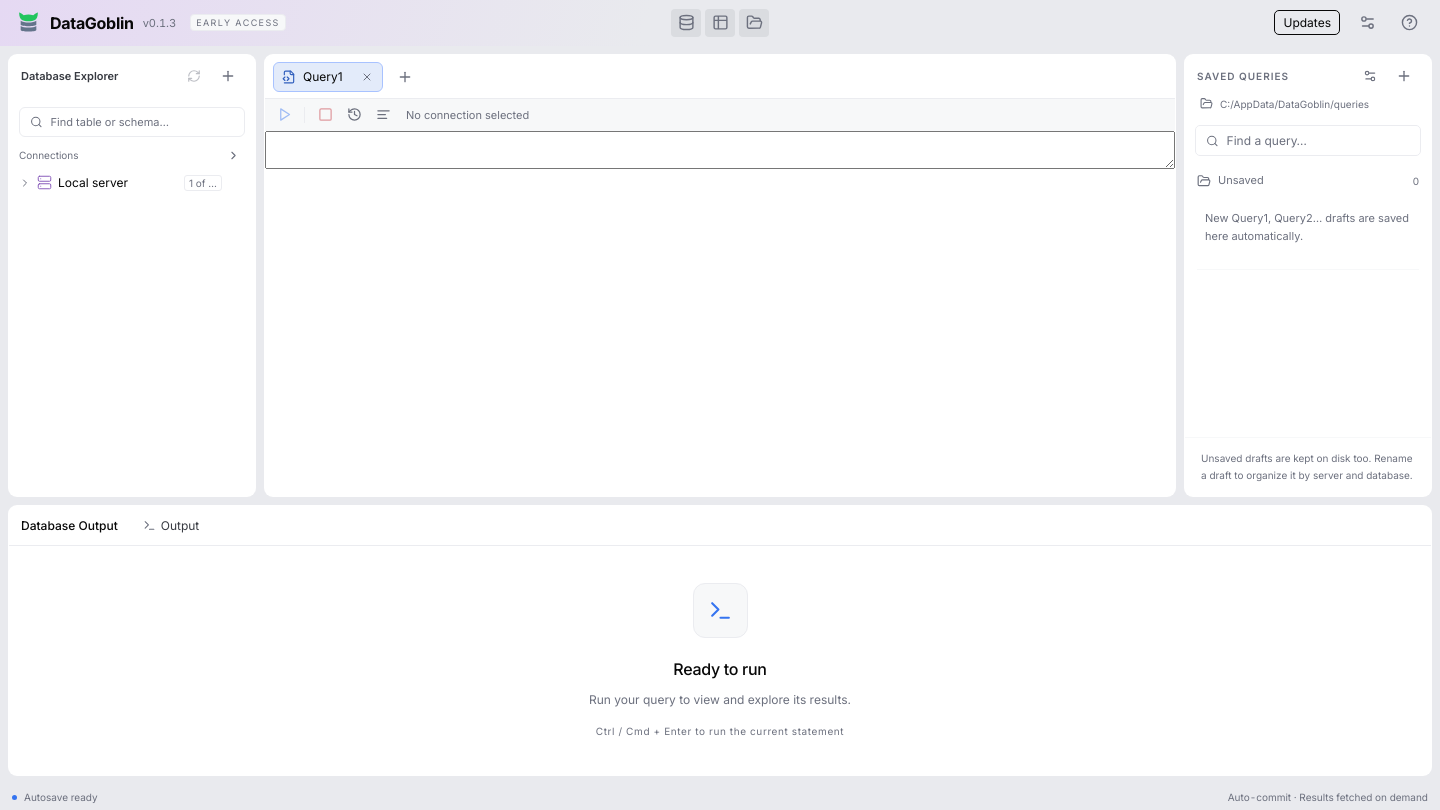
Test: requests cached execution and releases results when rerun or closed
Later steps or results of the test are not shown.
Check: the text "Autosave ready" is shown, box [24,791,98,803]
Click the button "Local server".
click(100, 182)  # box [15,170,184,195]
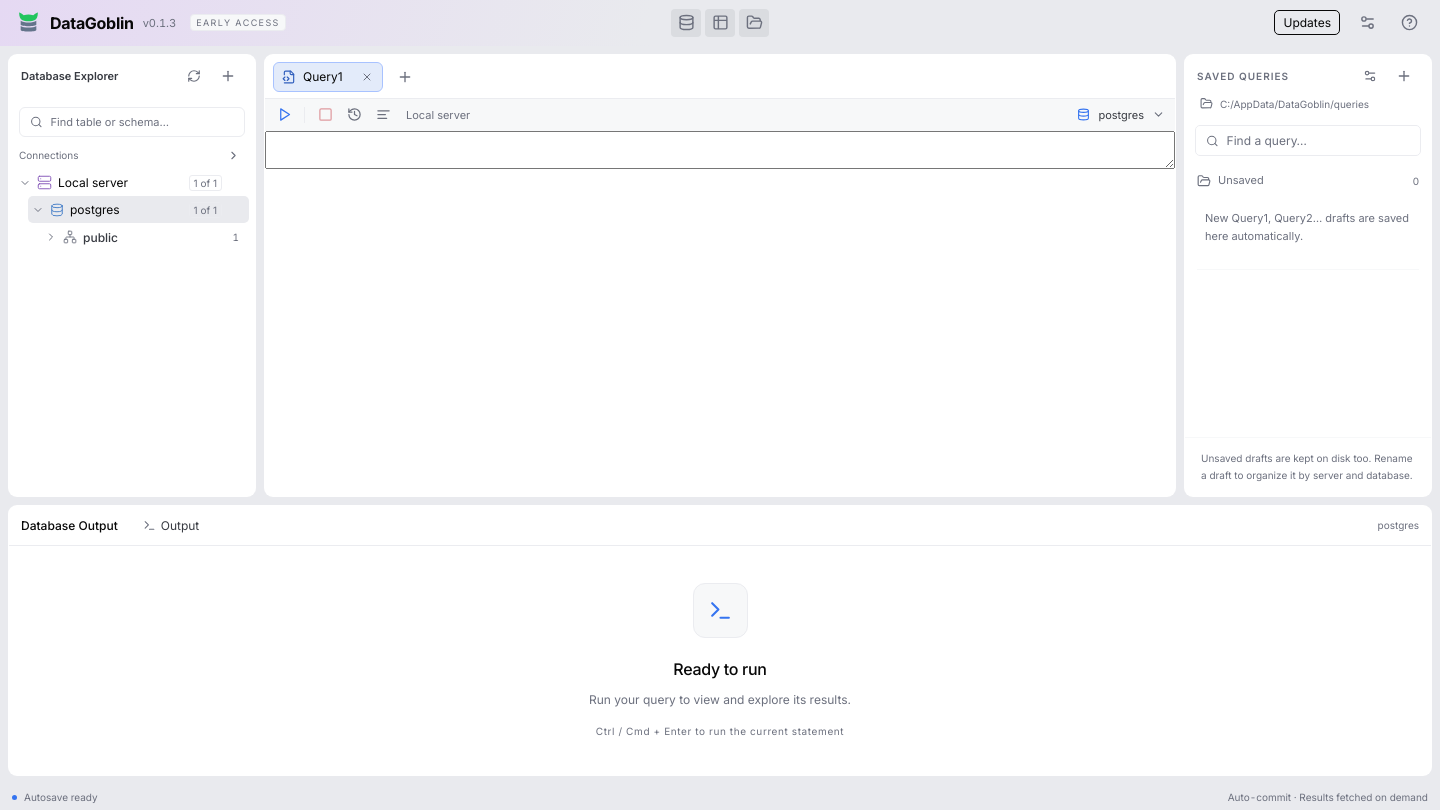
Type "SELECT 42;" into the text box named "SQL editor".
click(720, 150); type("SELECT 42;")  # box [265,131,1175,169]
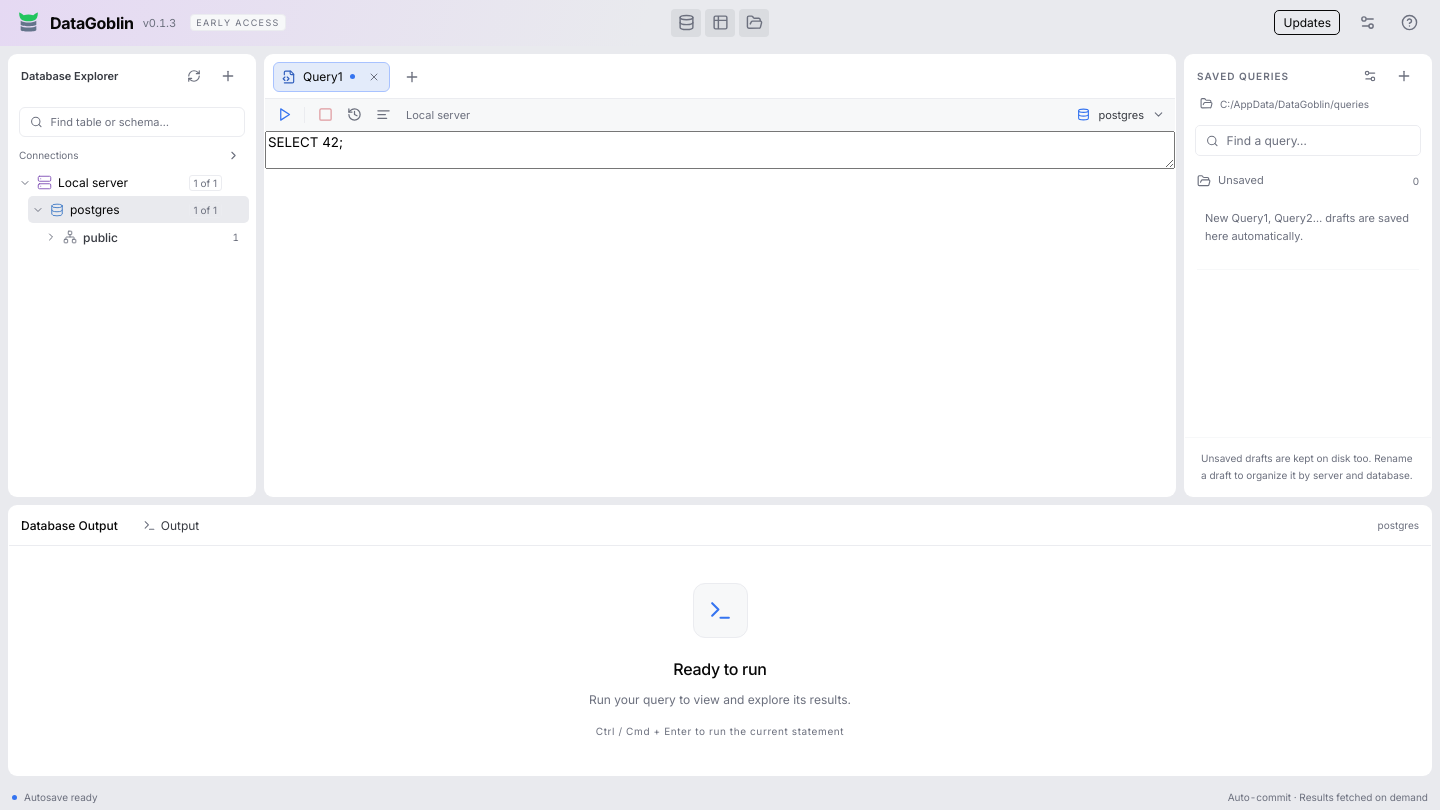
Click the button named "Run all".
click(284, 114)  # box [271,102,297,128]
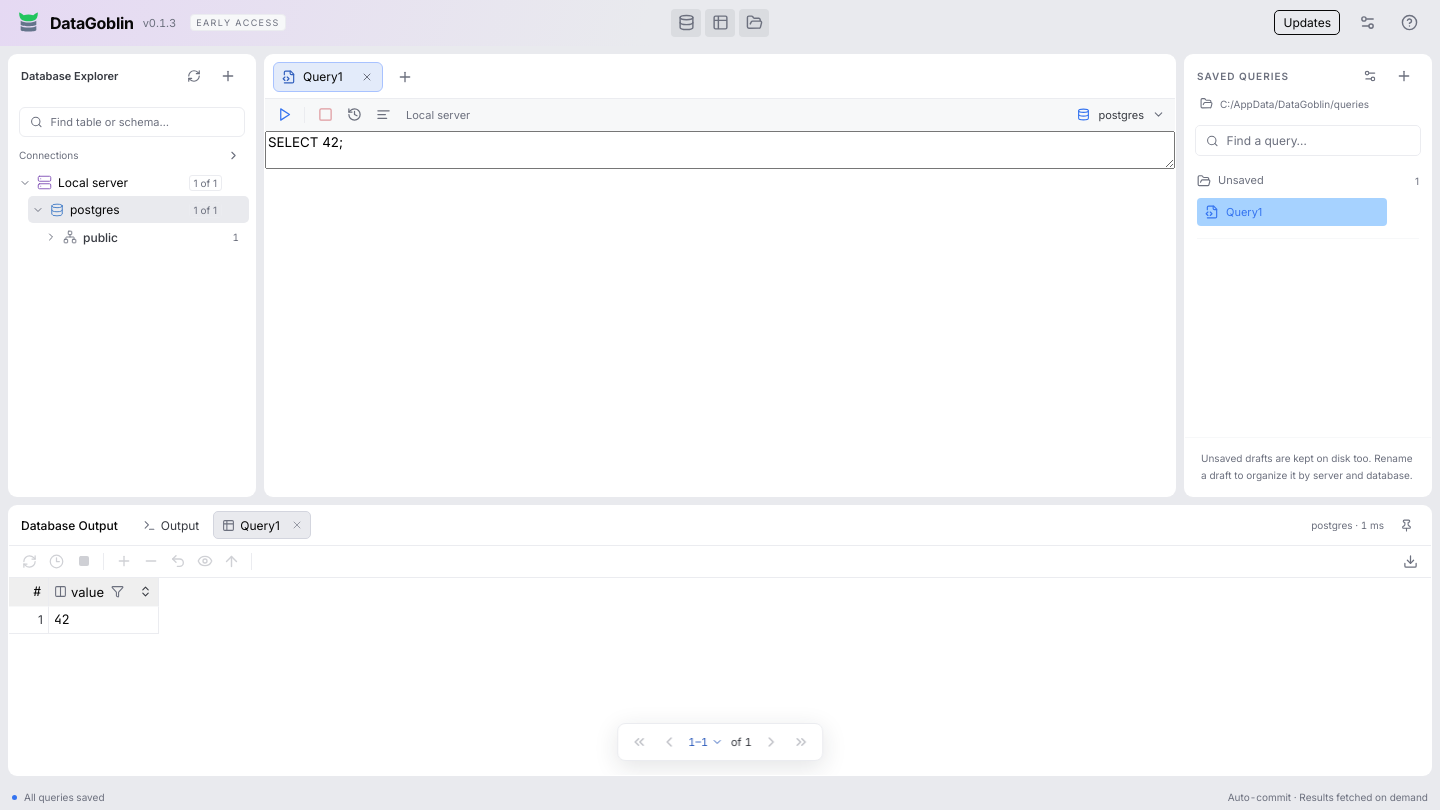
Check: the element labelled "1–1 of 1" is shown, box [685,731,755,753]
